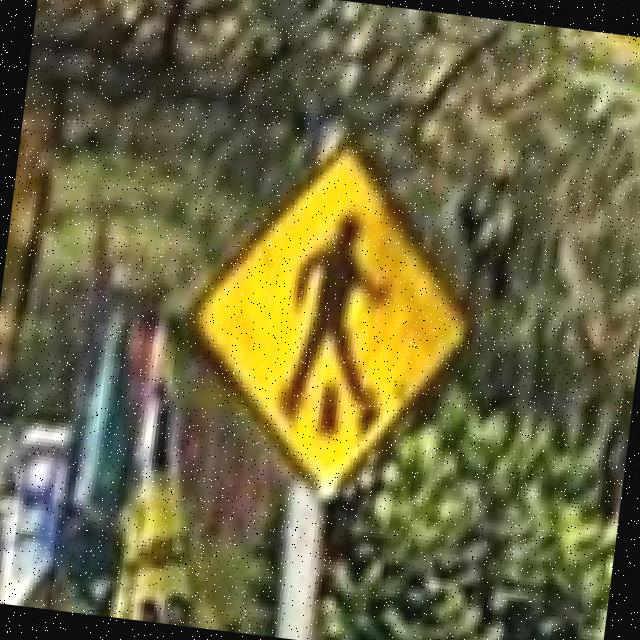Przejscie dla pieszych: (192, 146, 472, 493)
